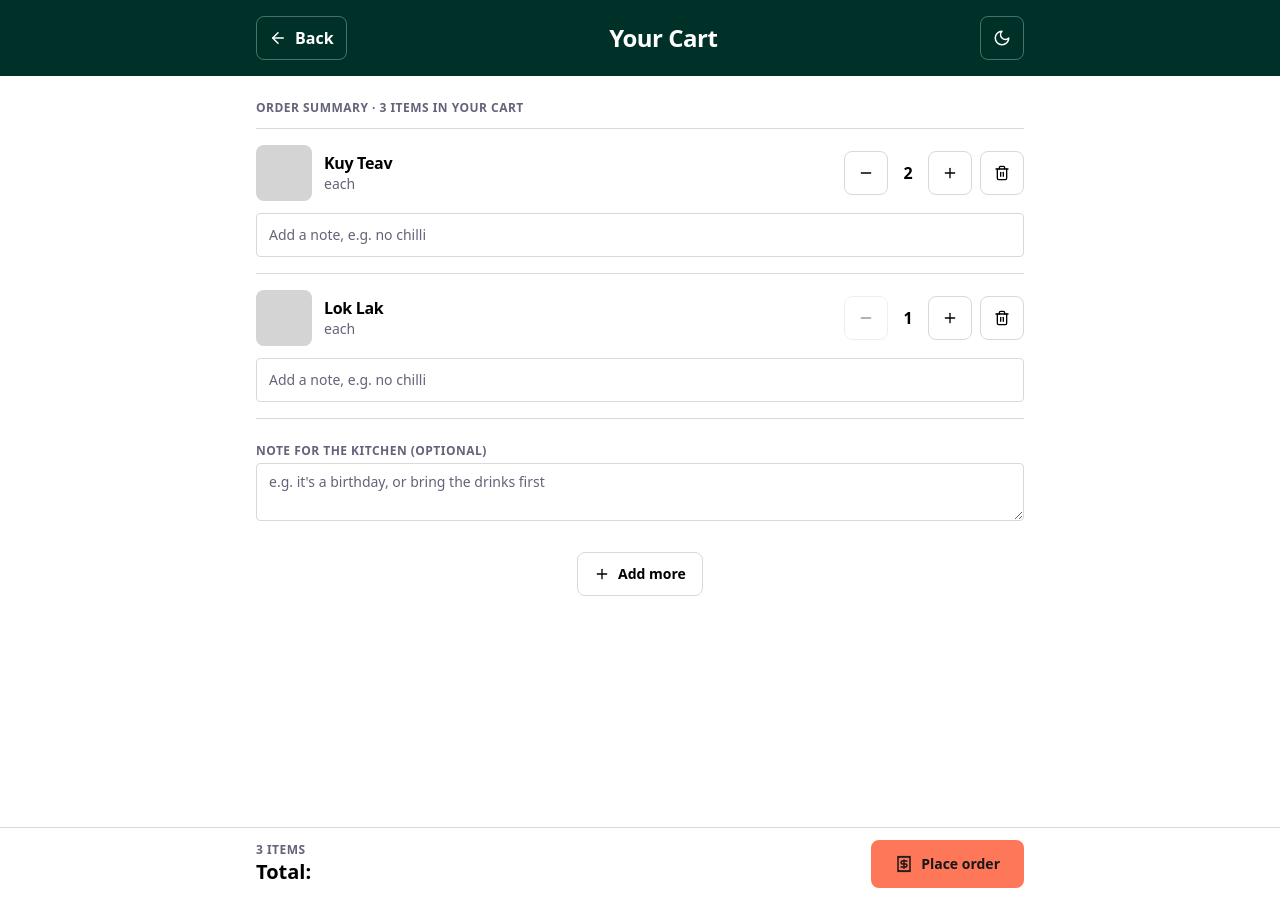
Test case: order errors › no connection: says so, keeps the cart, offers Try again
The width and height of the screenshot is (1280, 900).
Expected: the heading "Kuy Teav" is shown, [324,152,392,174]
Click the button "Place order" at (948, 864), box [871,840,1024,888]
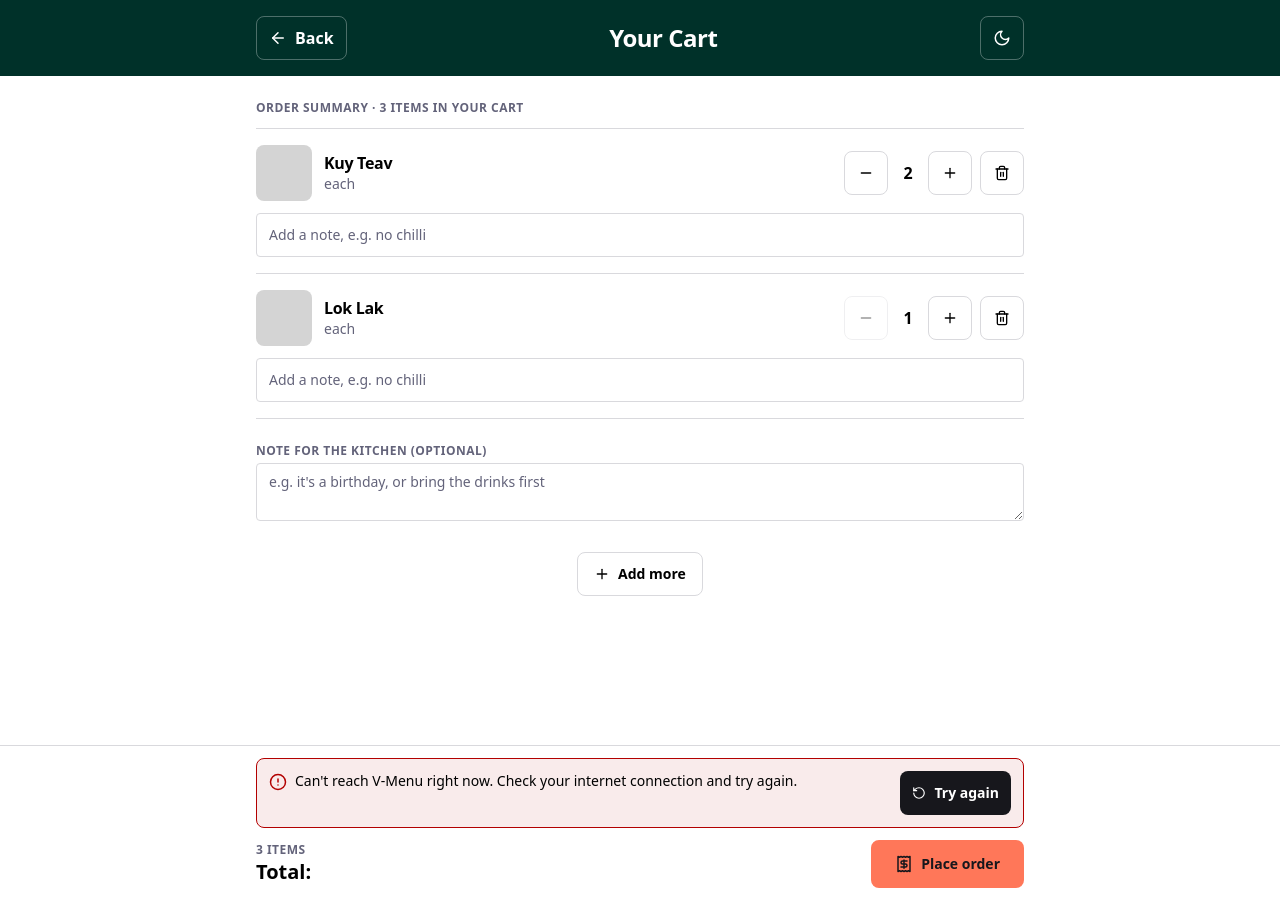
Expected: the button "Try again" is shown, [900,771,1011,815]
